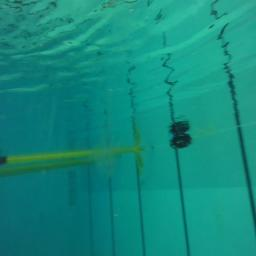Side: (169, 133, 191, 148)
